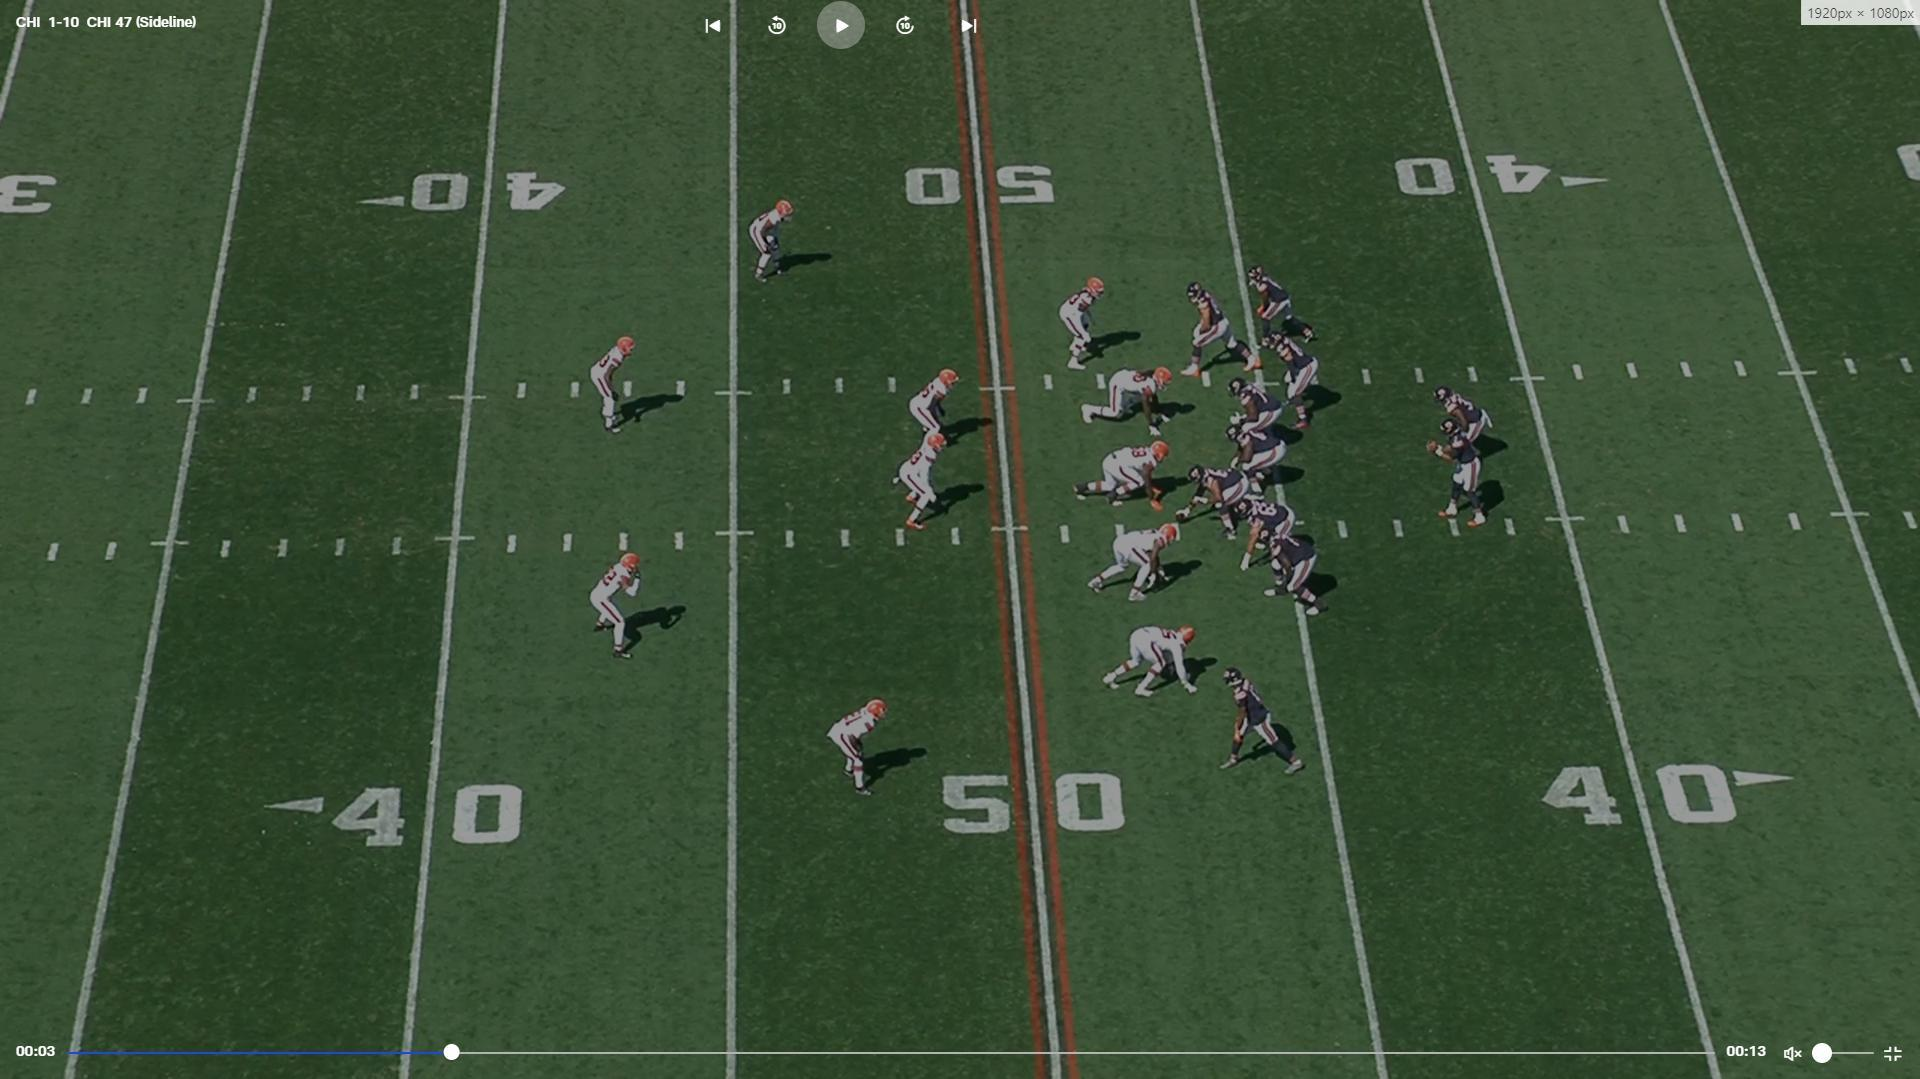defense: (1101, 621, 1207, 703), (1087, 518, 1183, 603), (1079, 364, 1179, 435), (1076, 442, 1176, 513), (588, 547, 650, 662), (825, 696, 887, 798), (898, 429, 955, 536), (1058, 273, 1109, 371), (910, 367, 963, 462), (595, 331, 641, 437), (748, 198, 795, 289)
oline: (1261, 522, 1327, 621), (1174, 464, 1257, 539), (1226, 417, 1291, 503), (1233, 495, 1302, 575), (1230, 373, 1290, 438)
qb: (1427, 417, 1491, 530)
skill: (1221, 666, 1309, 777), (1180, 278, 1258, 380), (1261, 328, 1333, 435), (1244, 264, 1321, 351), (1436, 383, 1499, 467)
